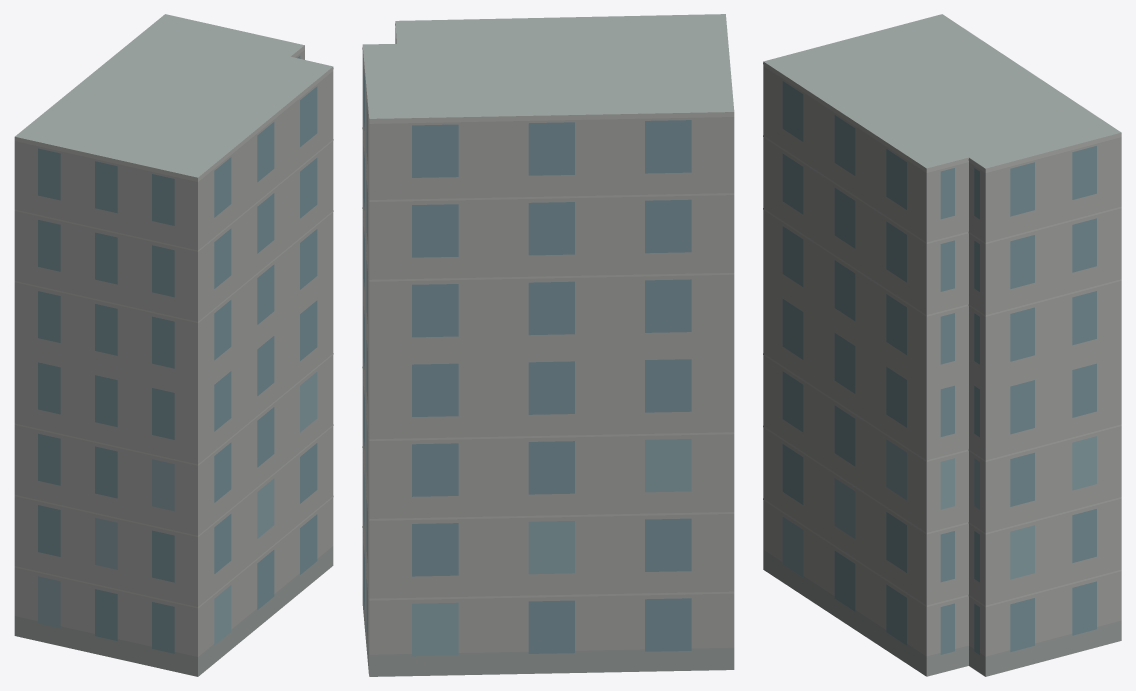
Rendered from survey-upis-32979141.glb.
The picture shows the model from 3 angles, left to right: view 1: azimuth 30°, elevation 25°; view 2: azimuth 150°, elevation 25°; view 3: azimuth 270°, elevation 25°; orthographic projection. The views are drawn at different scales.
Parts seen in each view (by area): view 1: survey-upis-32979141.tmp; view 2: survey-upis-32979141.tmp; view 3: survey-upis-32979141.tmp.
Part boxes in pixels (left/top/right/bottom): survey-upis-32979141.tmp: left=14, top=14, right=333, bottom=676; survey-upis-32979141.tmp: left=362, top=14, right=734, bottom=676; survey-upis-32979141.tmp: left=763, top=14, right=1121, bottom=676.
Size of the model in its own units: 17.91 by 27.4 by 17.53.
